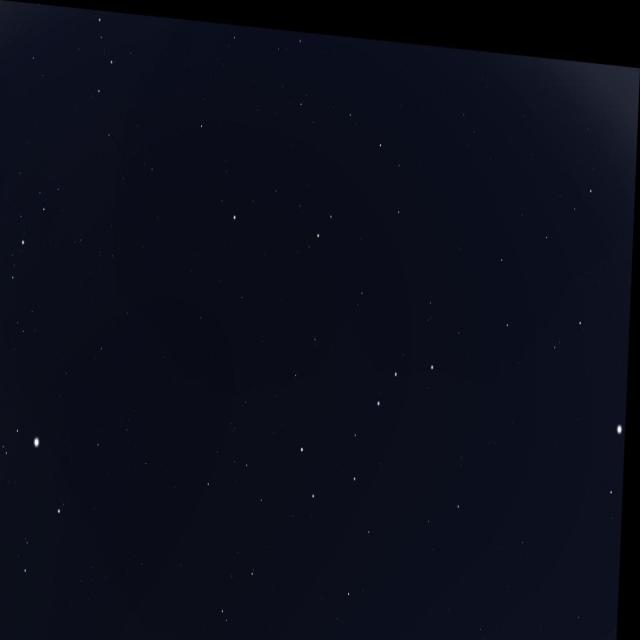cassiopeia: (83, 7, 140, 148)
ursa_major: (300, 330, 443, 511)
